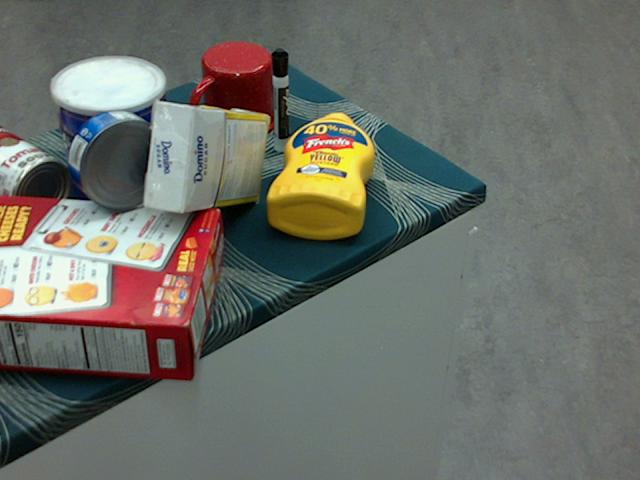cracker_box: (0, 194, 223, 378)
large_marker: (271, 47, 289, 152)
master_chef_can: (52, 57, 172, 235)
mug: (186, 42, 278, 140)
mustard_bottle: (267, 111, 375, 239)
potted_meat_can: (72, 90, 168, 173)
sugar_box: (144, 103, 267, 215)
tomato_soup_can: (0, 121, 70, 220)
tuna_fish_can: (67, 109, 171, 211)
